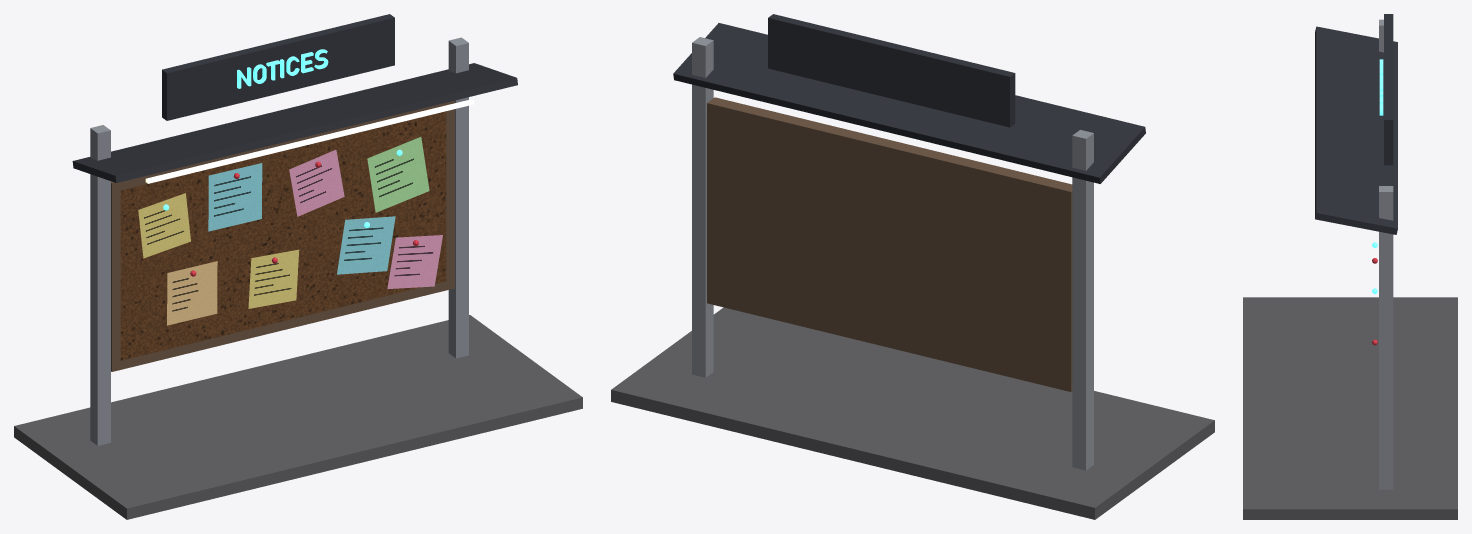
File: bulletin_board.glb
3 renders of one model, left to right at view 1: azimuth 30°, elevation 25°; view 2: azimuth 150°, elevation 25°; view 3: azimuth 270°, elevation 25°, orthographic. The views are drawn at different scales.
Parts seen in each view (by area): view 1: Slab, Cork, Awning, Post, Frame, Pinned note 2, Pinned note 3, Pinned note 1, Pinned note 4, Pinned note 5, Awning light, NOTICES; view 2: Frame, Slab, Awning, Post; view 3: Slab, Awning, Post, NOTICES.
Boxes of the visible parts, <box> form: Slab: <box>14,315,582,519</box>; Cork: <box>120,111,446,360</box>; Awning: <box>72,14,517,182</box>; Post: <box>90,37,468,445</box>; Frame: <box>111,100,454,371</box>; Pinned note 2: <box>208,163,395,274</box>; Pinned note 3: <box>289,149,442,288</box>; Pinned note 1: <box>138,193,299,308</box>; Pinned note 4: <box>367,137,429,212</box>; Pinned note 5: <box>167,261,217,325</box>; Awning light: <box>145,99,473,183</box>; NOTICES: <box>163,49,402,227</box>; Frame: <box>707,97,1072,391</box>; Slab: <box>611,307,1214,519</box>; Awning: <box>673,14,1145,183</box>; Post: <box>692,37,1093,470</box>; Slab: <box>1243,297,1457,519</box>; Awning: <box>1315,14,1397,234</box>; Post: <box>1379,19,1393,489</box>; NOTICES: <box>1372,59,1383,294</box>.
Size of the model in its own units: 4.2 by 3.21 by 1.8.
13 materials, 6 textured.
